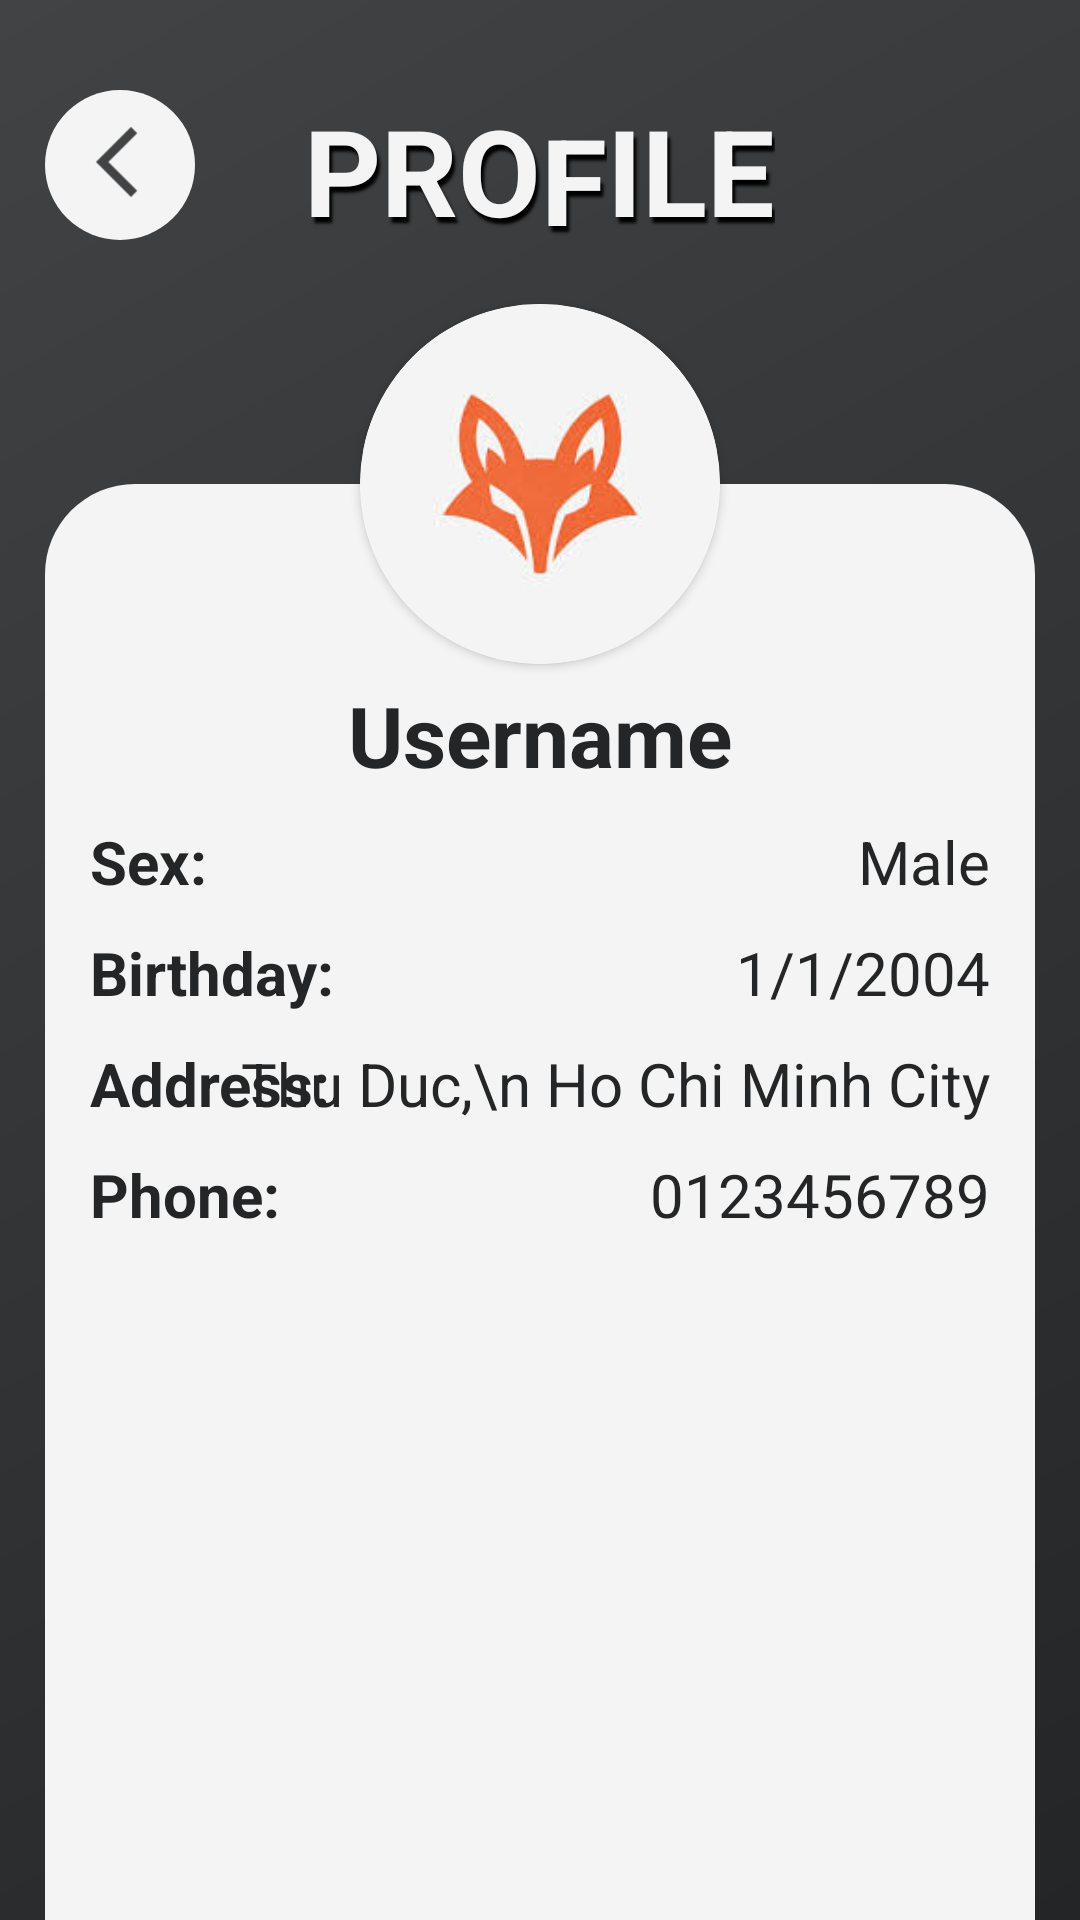

Icons on this 1080px×1920px Android screen, each with the point to tap as [x,y]:
back: [120,165]
fox: [540,484]
